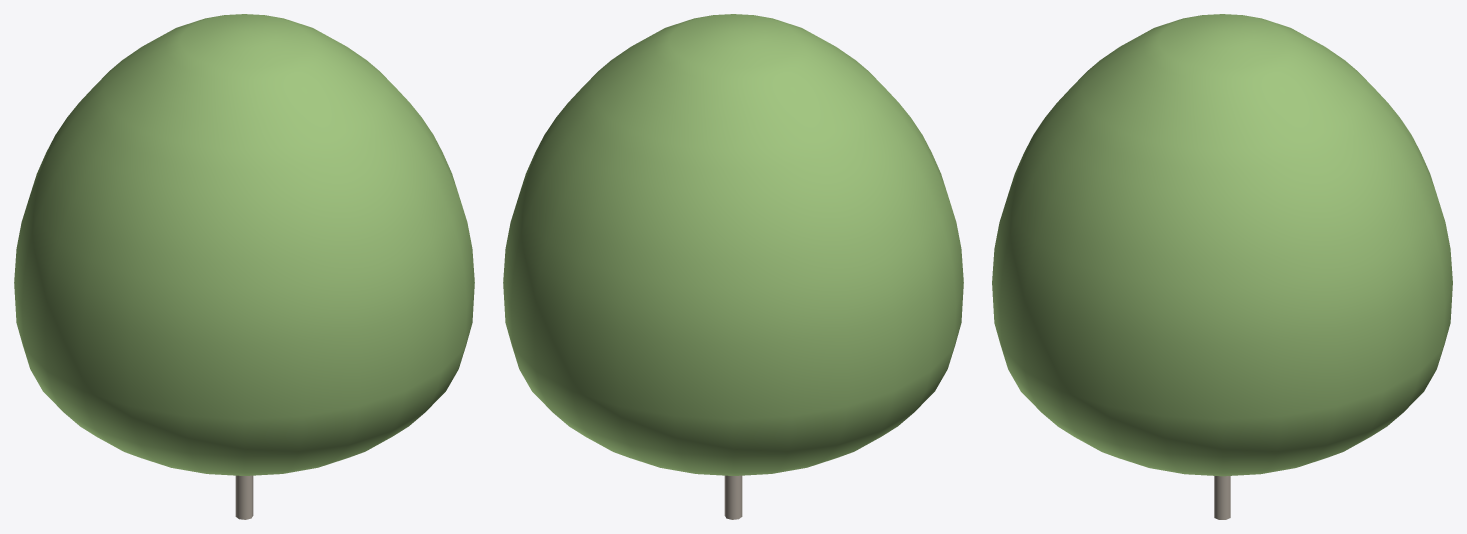
File: QuercusAlba.glb
The picture shows the model from 3 angles, left to right: view 1: azimuth 30°, elevation 25°; view 2: azimuth 150°, elevation 25°; view 3: azimuth 270°, elevation 25°; orthographic projection.
Parts seen in each view (by area): view 1: White_Oak__Schematic_LOD3; view 2: White_Oak__Schematic_LOD3; view 3: White_Oak__Schematic_LOD3.
Boxes of the visible parts, box(x1,y1,x2,y2) form: White_Oak__Schematic_LOD3: box(14, 14, 474, 519); White_Oak__Schematic_LOD3: box(503, 14, 963, 519); White_Oak__Schematic_LOD3: box(992, 14, 1452, 519).
Size of the model in its own units: 23.58 by 27.37 by 23.58.
